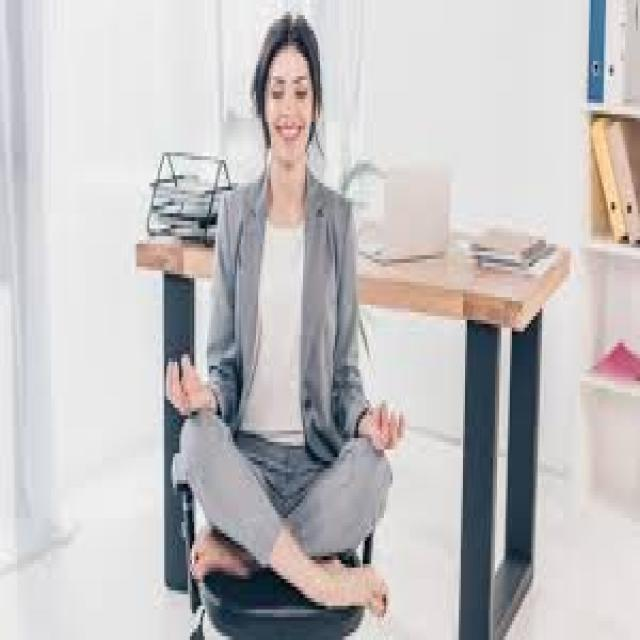chair: (156, 318, 398, 640)
